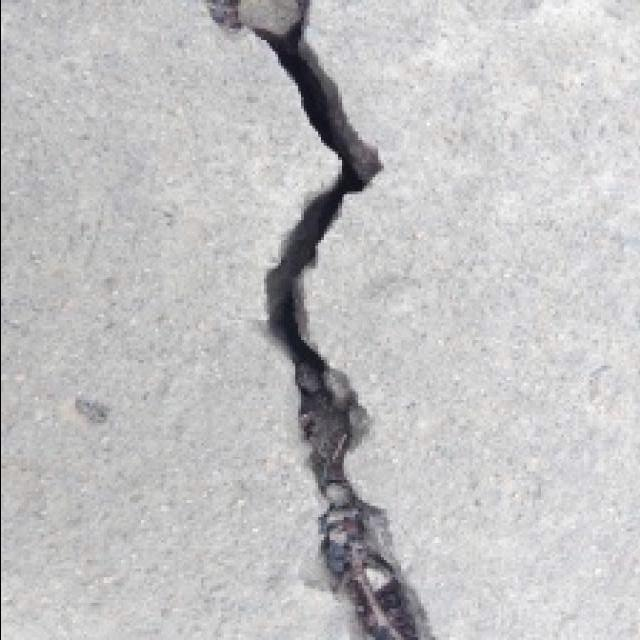SurfaceCrack: (210, 0, 450, 640)
